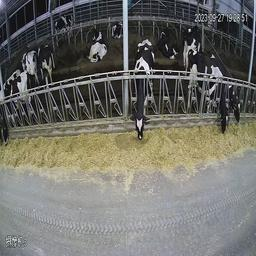cow: (186, 47, 228, 135), (2, 70, 34, 146), (134, 34, 155, 141), (228, 75, 245, 125), (36, 45, 58, 81), (86, 26, 108, 62), (157, 24, 177, 62), (183, 21, 203, 52), (18, 50, 36, 79), (54, 13, 75, 34), (110, 20, 123, 42)
